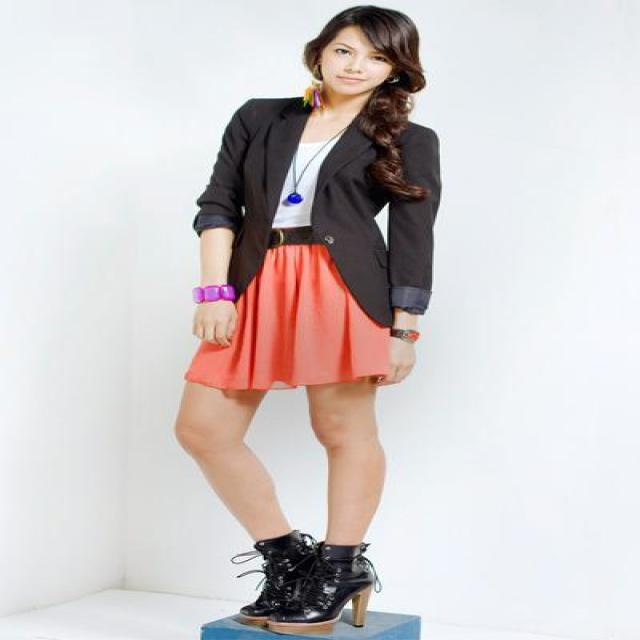jacket: (194, 97, 440, 319)
shirt: (272, 134, 338, 228)
shoe: (234, 533, 379, 639)
skirt: (184, 246, 402, 390)
